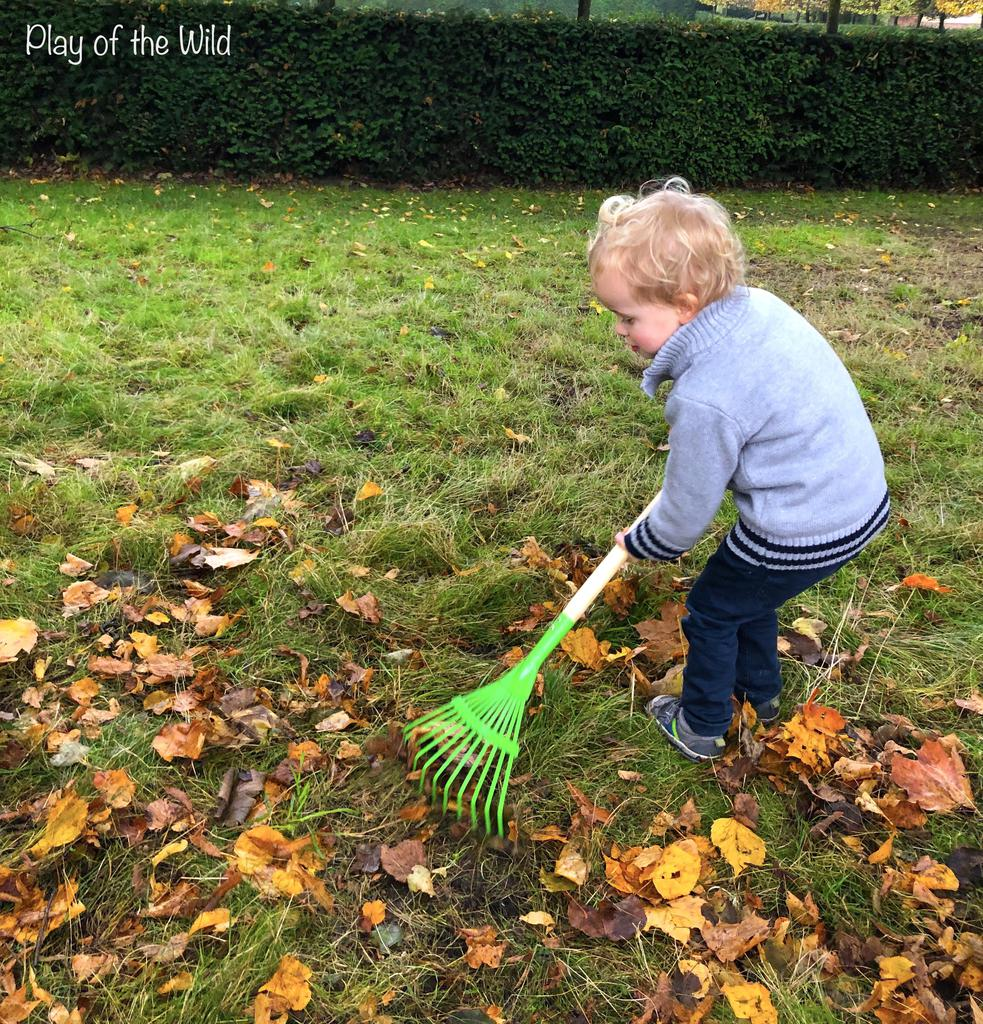child: (564, 170, 903, 770)
